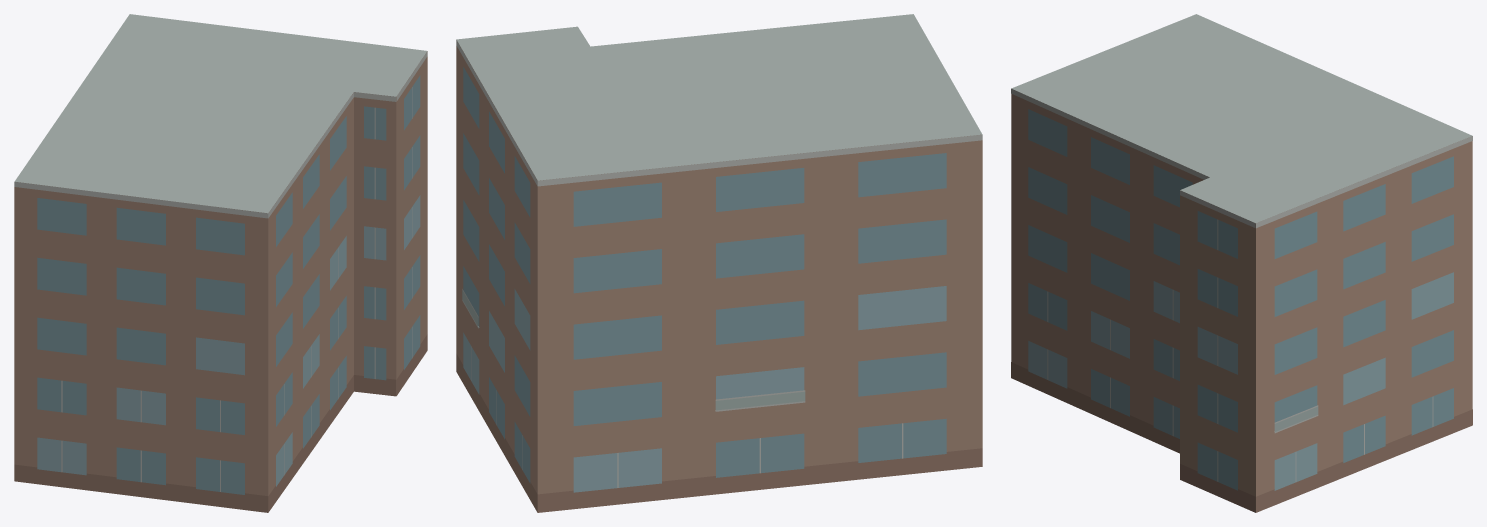
The model's file is survey-upis-32744154.glb.
The picture shows the model from 3 angles, left to right: view 1: azimuth 30°, elevation 25°; view 2: azimuth 150°, elevation 25°; view 3: azimuth 270°, elevation 25°; orthographic projection. The views are drawn at different scales.
Visible parts, largest first — view 1: survey-upis-32744154.tmp; view 2: survey-upis-32744154.tmp; view 3: survey-upis-32744154.tmp.
Part boxes in pixels (x1=…): survey-upis-32744154.tmp: x1=14, y1=14, x2=427, y2=512; survey-upis-32744154.tmp: x1=456, y1=14, x2=982, y2=512; survey-upis-32744154.tmp: x1=1011, y1=14, x2=1472, y2=512.
Size of the model in its own units: 21.63 by 13.95 by 20.16.
